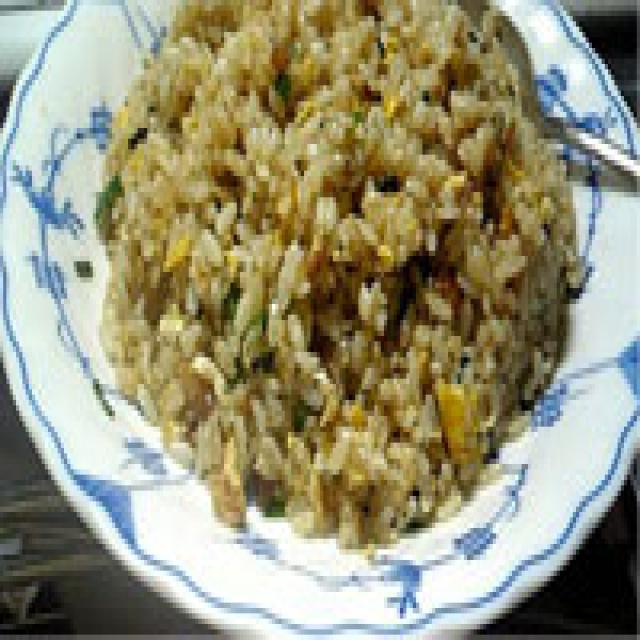米饭主食: (0, 0, 618, 608)
